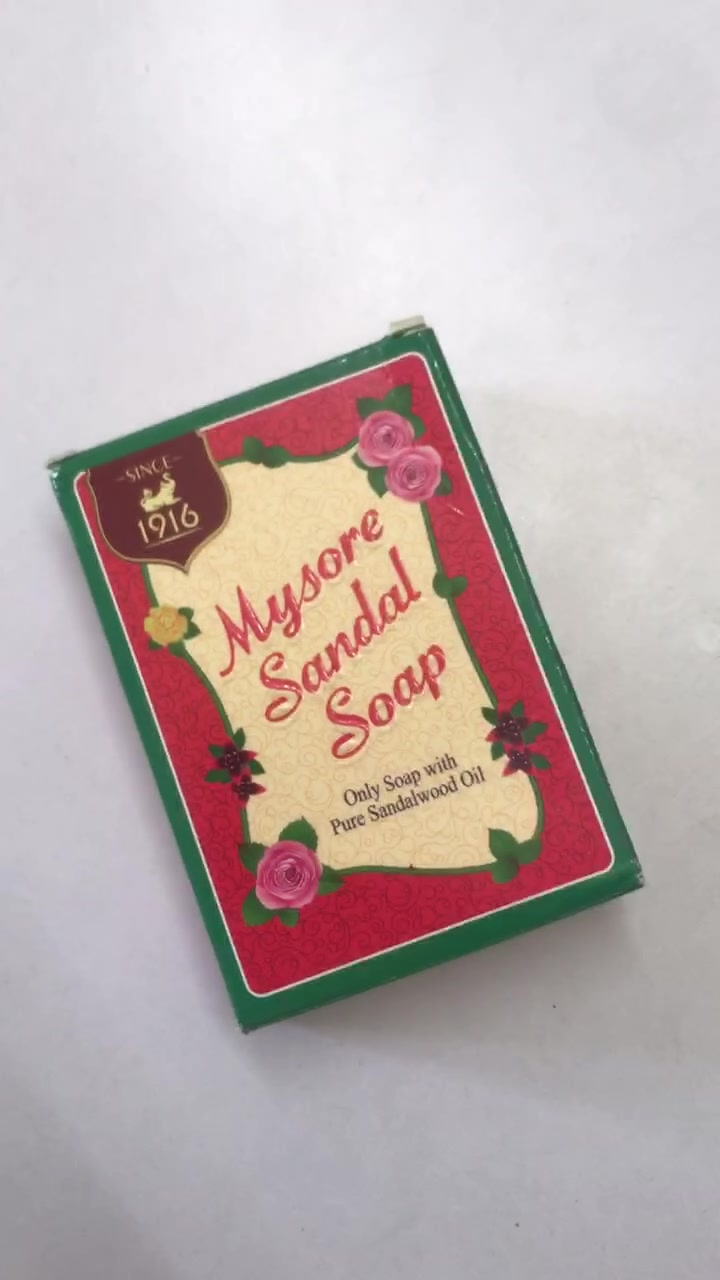mysore sandal soap: (48, 327, 648, 1035)
